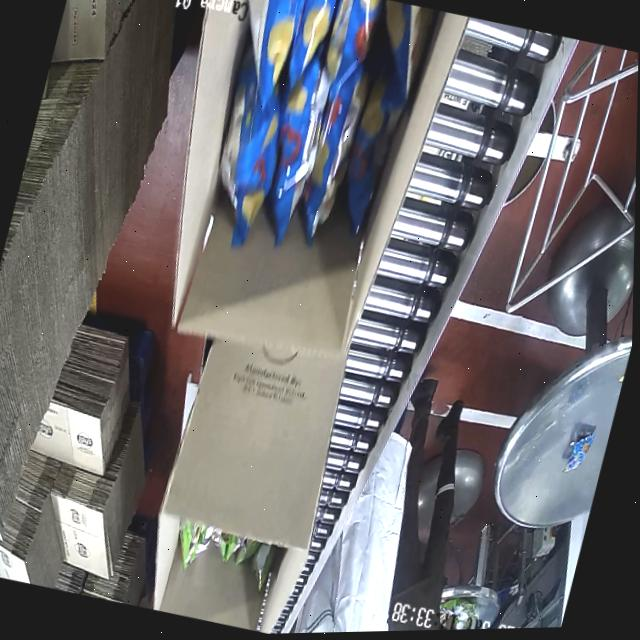PAPRIKA: (175, 0, 425, 304)
